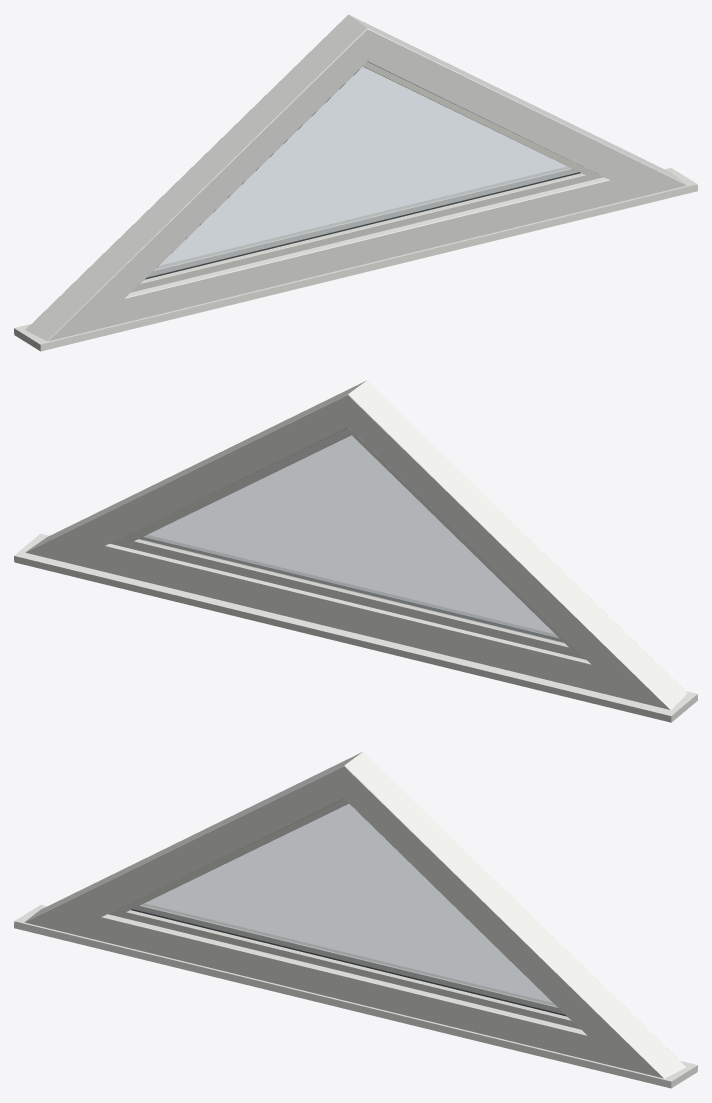
The model's file is special-triangle.glb.
3 renders of one model, top to bottom at view 1: azimuth 30°, elevation 25°; view 2: azimuth 150°, elevation 25°; view 3: azimuth 330°, elevation 25°, orthographic.
Visible parts, largest first — view 1: frame, glass, glazing_bead, frame_sill_nose, glazing_rebate, gasket_ext; view 2: frame, glass, frame_sill_nose, glazing_rebate, glazing_bead; view 3: frame, glass, glazing_bead, frame_sill_nose, glazing_rebate, gasket_ext.
Boxes of the visible parts, x1,y1,x2,y2 form: frame: (25, 14, 687, 341); glass: (146, 67, 579, 278); glazing_bead: (131, 62, 603, 292); frame_sill_nose: (14, 168, 697, 351); glazing_rebate: (147, 67, 578, 277); gasket_ext: (145, 172, 580, 279); frame: (25, 380, 687, 709); glass: (138, 435, 563, 642); frame_sill_nose: (14, 533, 697, 722); glazing_rebate: (110, 427, 585, 659); glazing_bead: (139, 535, 563, 642); frame: (24, 751, 686, 1078); glass: (132, 804, 565, 1015); glazing_bead: (108, 799, 580, 1029); frame_sill_nose: (14, 905, 697, 1088); glazing_rebate: (133, 804, 564, 1014); gasket_ext: (131, 909, 566, 1016).
Bounding box in the file's own units: 1.63 × 0.5794 × 0.1148.
